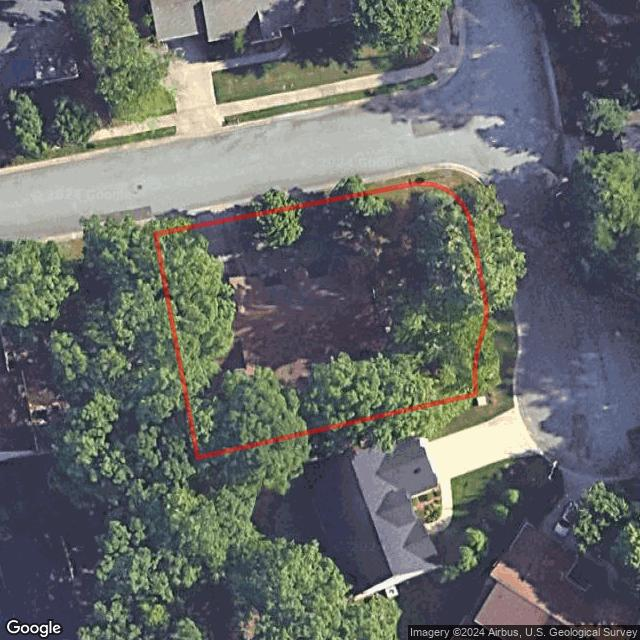Driveway: (186, 219, 255, 286)
Extra-Driveway: (184, 202, 238, 229)
Extra-Lawn: (234, 169, 518, 392), (153, 217, 189, 232)
House: (188, 260, 402, 404)
Lawn: (155, 182, 488, 457)
